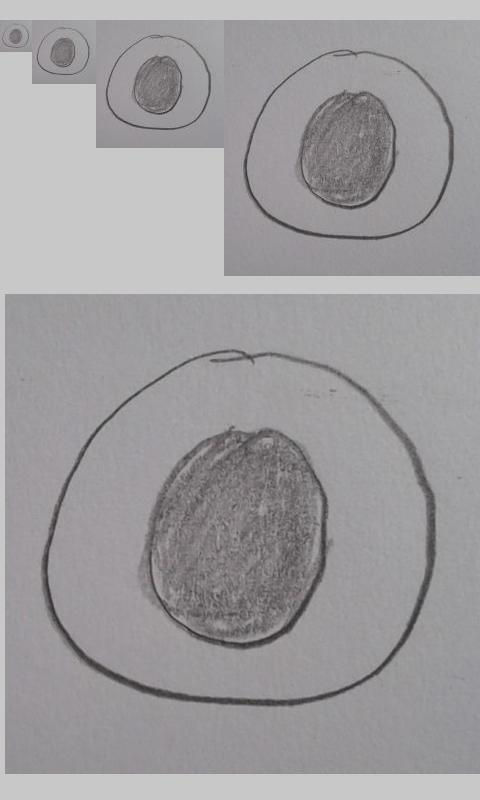radio_button: (37, 347, 440, 712), (241, 48, 455, 242), (105, 34, 213, 132), (36, 26, 91, 77), (1, 22, 30, 50)
